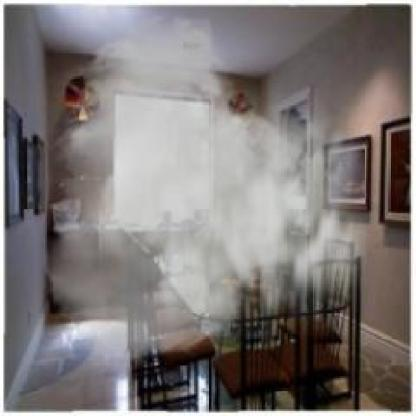Smoke: (41, 11, 384, 372)
